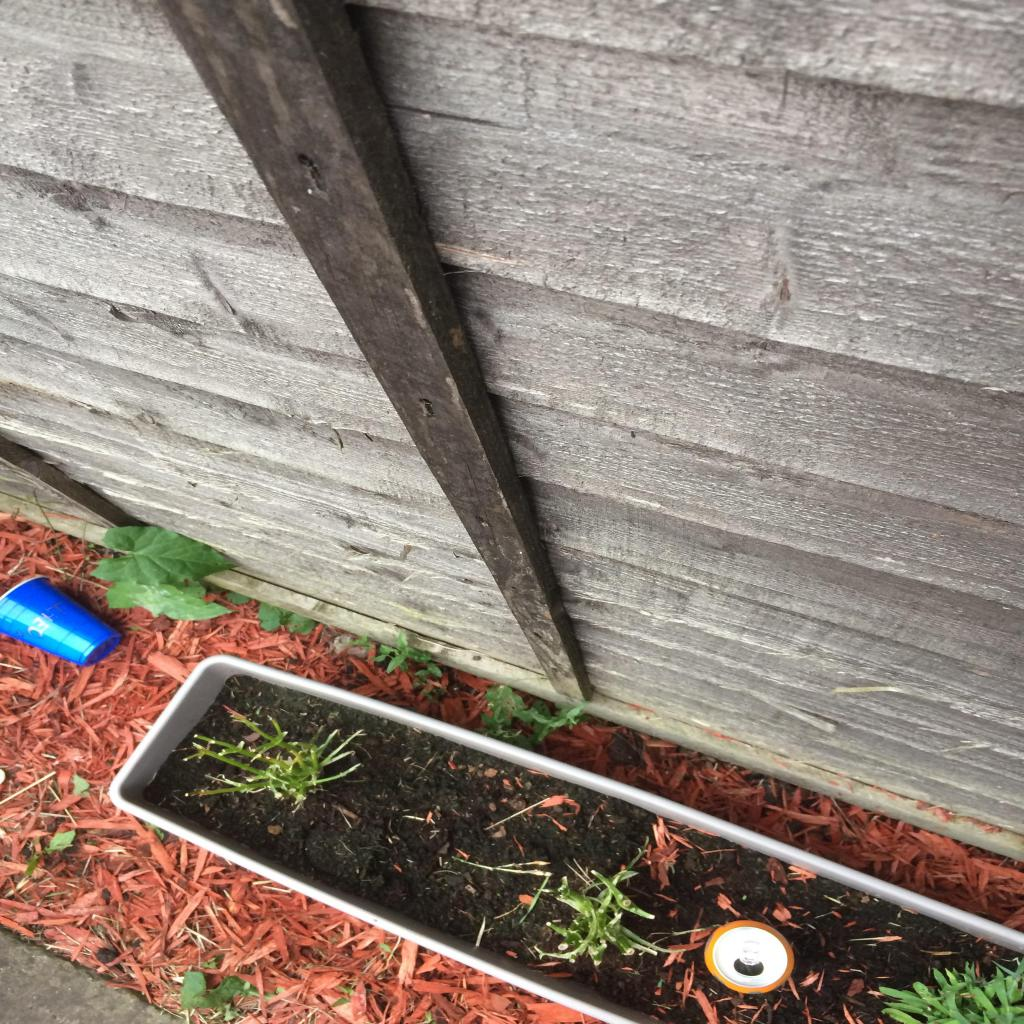Disposable plastic cup: (2, 576, 121, 666)
Drink can: (704, 920, 794, 994)
Pop tab: (740, 942, 760, 966)
